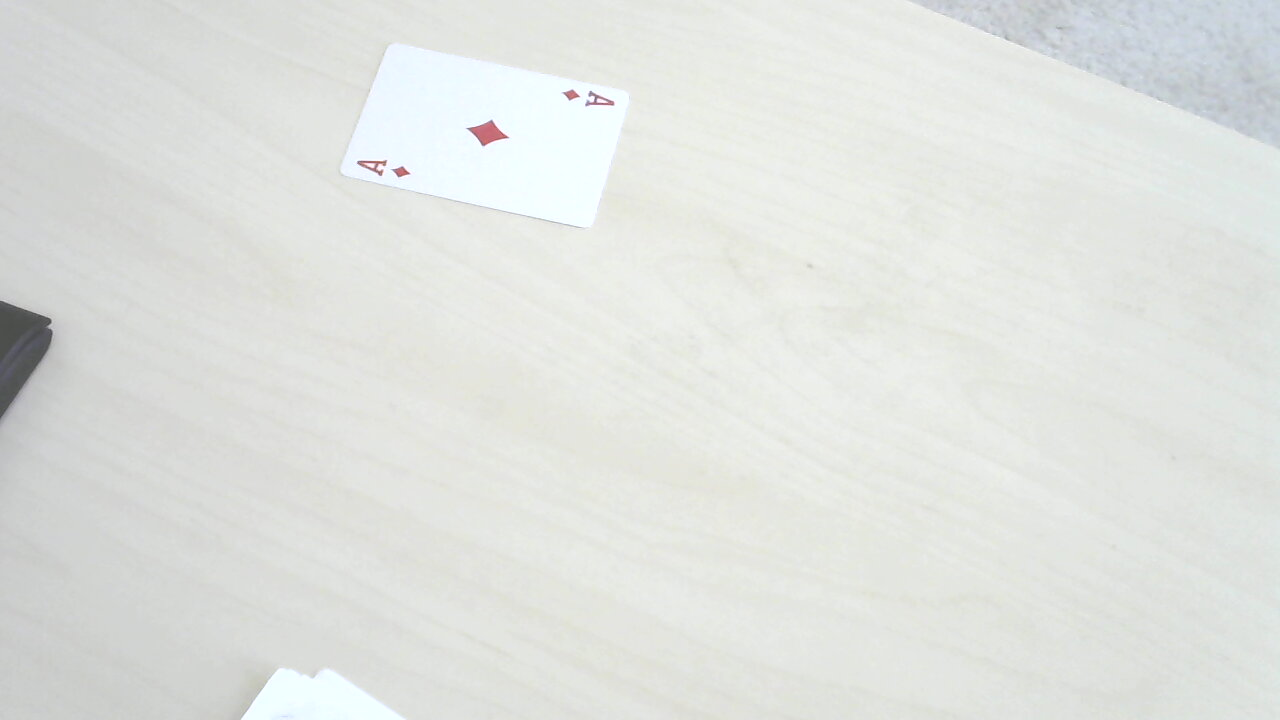one: (354, 88, 613, 182)
